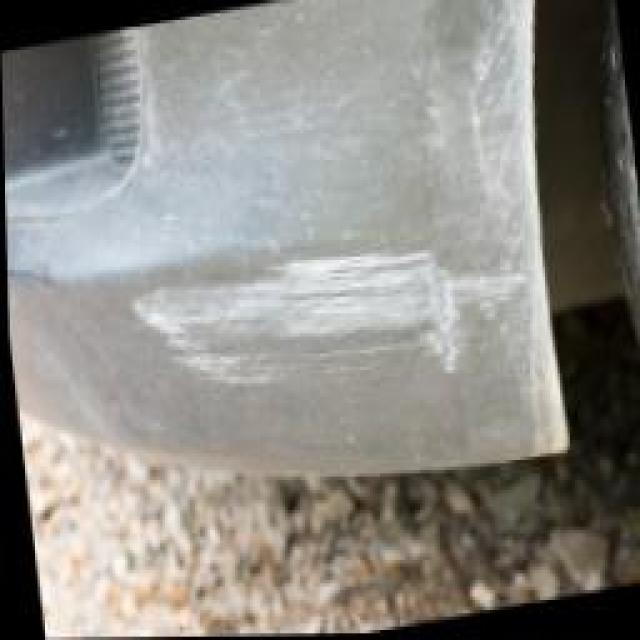Bumper: (52, 0, 560, 542)
